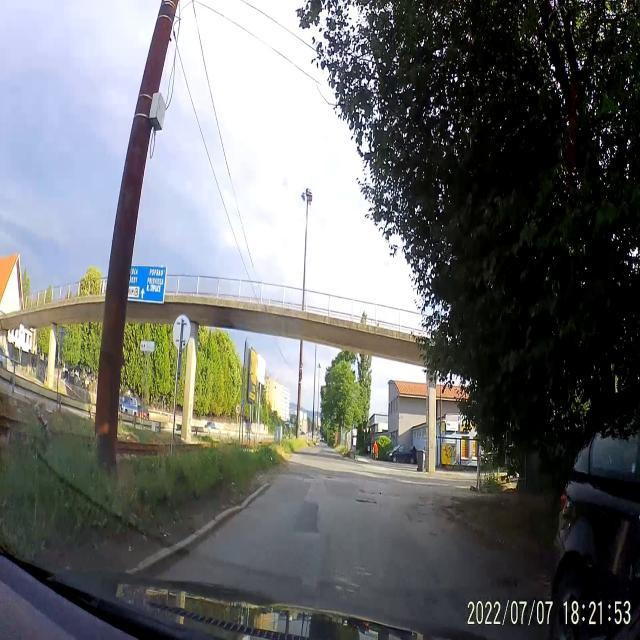Pothole: (353, 488, 378, 514)
